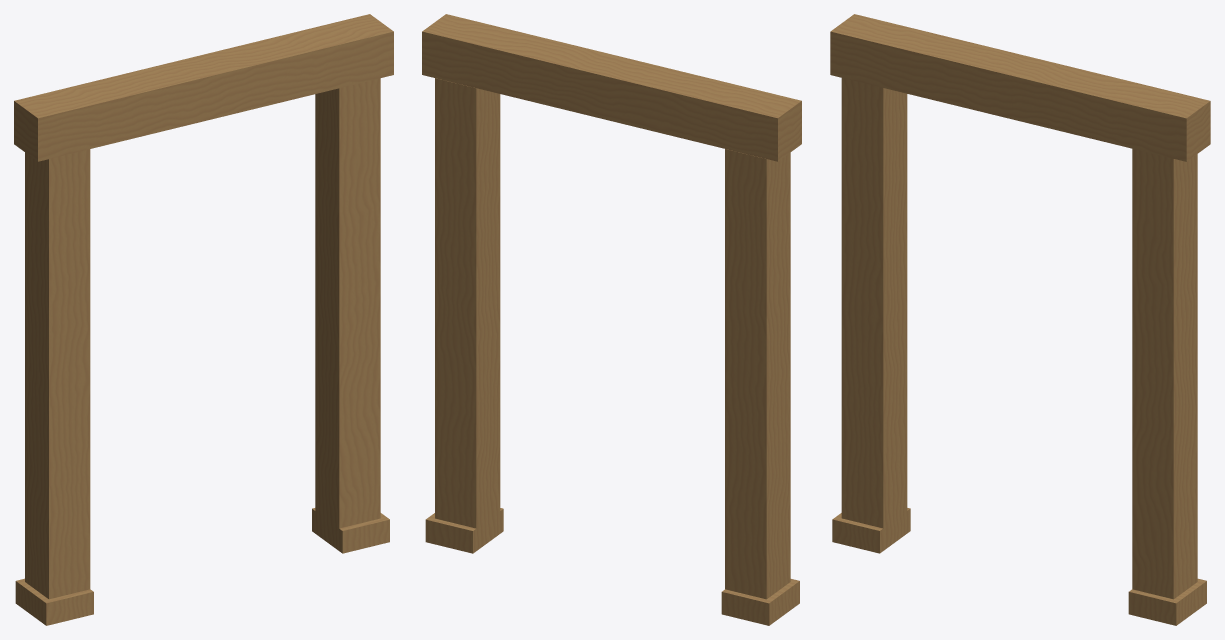
Rendered from Door_Frame_01.FBX.
3 views of the same model, side by side, from view 1: azimuth 30°, elevation 25°; view 2: azimuth 150°, elevation 25°; view 3: azimuth 330°, elevation 25° (orthographic).
Parts seen in each view (by area): view 1: DoorFrame_02; view 2: DoorFrame_02; view 3: DoorFrame_02.
Part boxes in pixels (x1=…): DoorFrame_02: x1=14, y1=14, x2=393, y2=625; DoorFrame_02: x1=422, y1=14, x2=801, y2=625; DoorFrame_02: x1=830, y1=14, x2=1210, y2=625.
Size of the model in its own units: 11811 by 16063 by 1768.
